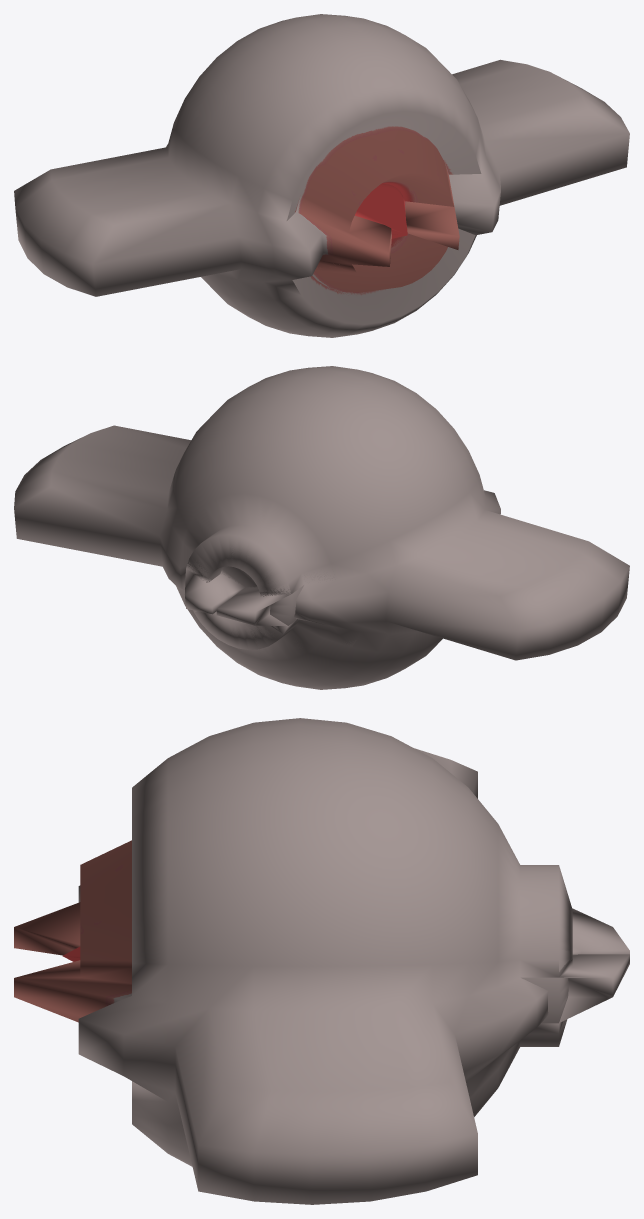
The model's file is Enemy1.fbx.
3 renders of one model, top to bottom at view 1: azimuth 30°, elevation 25°; view 2: azimuth 150°, elevation 25°; view 3: azimuth 270°, elevation 25°, orthographic. The views are drawn at different scales.
Parts seen in each view (by area): view 1: Sphere; view 2: Sphere; view 3: Sphere.
Boxes of the visible parts, x1,y1,x2,y2 form: Sphere: (14, 14, 629, 337); Sphere: (14, 366, 629, 689); Sphere: (14, 718, 629, 1204).
Size of the model in its own units: 4.02 by 2 by 2.59.
1 material, 1 textured.
